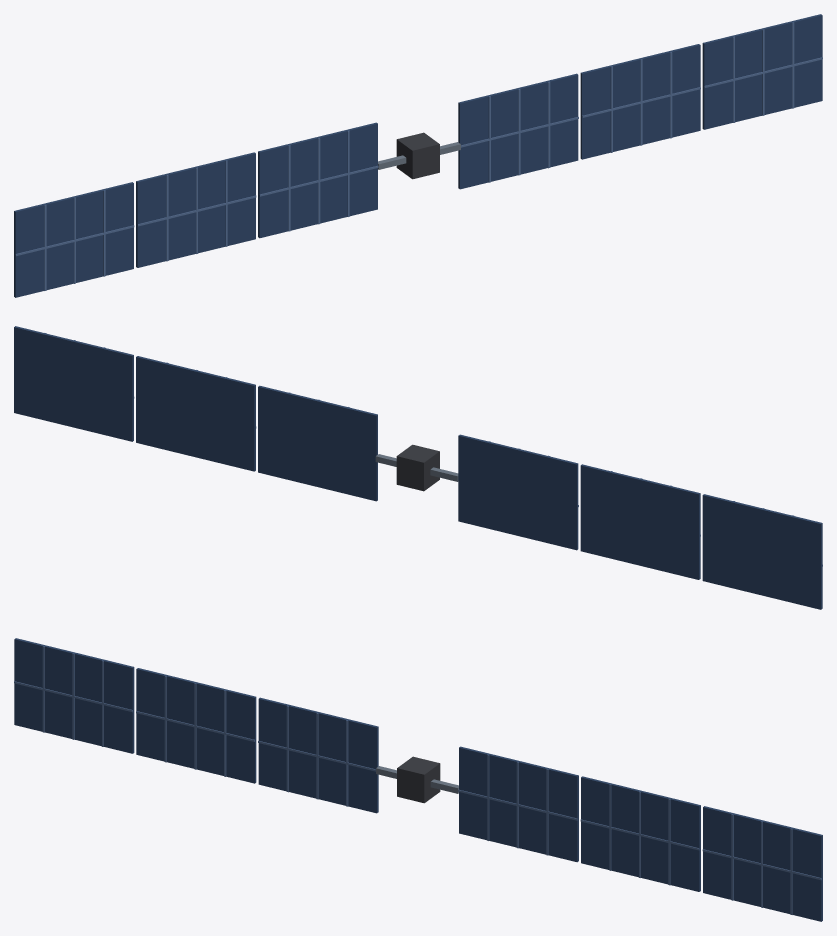
The model's file is Pow_Solar_L.fbx.
3 renders of one model, top to bottom at view 1: azimuth 30°, elevation 25°; view 2: azimuth 150°, elevation 25°; view 3: azimuth 330°, elevation 25°, orthographic.
Parts seen in each view (by area): view 1: Pow_Solar_L; view 2: Pow_Solar_L; view 3: Pow_Solar_L.
Boxes of the visible parts, box(x1,y1,x2,y2) form: Pow_Solar_L: box(14, 14, 822, 297); Pow_Solar_L: box(14, 326, 822, 609); Pow_Solar_L: box(14, 638, 822, 921).
Size of the model in its own units: 8.86 by 0.9 by 0.3.
Materials: 1 (1 with a texture image).
